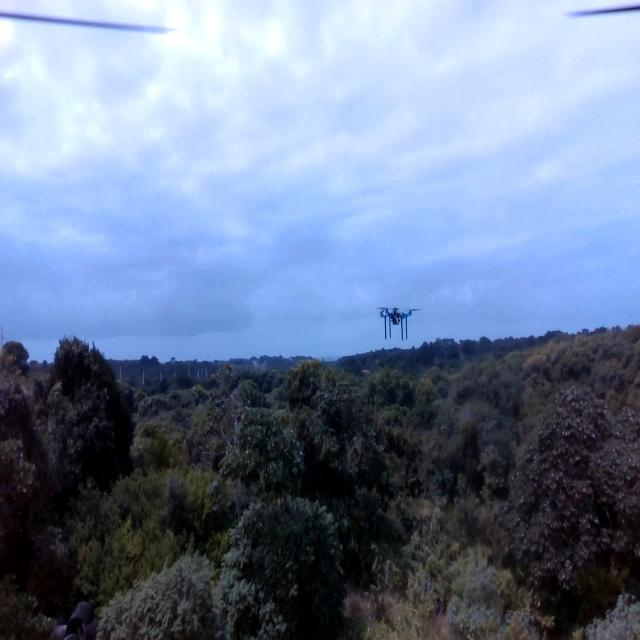-uav-: (376, 298, 418, 348)
